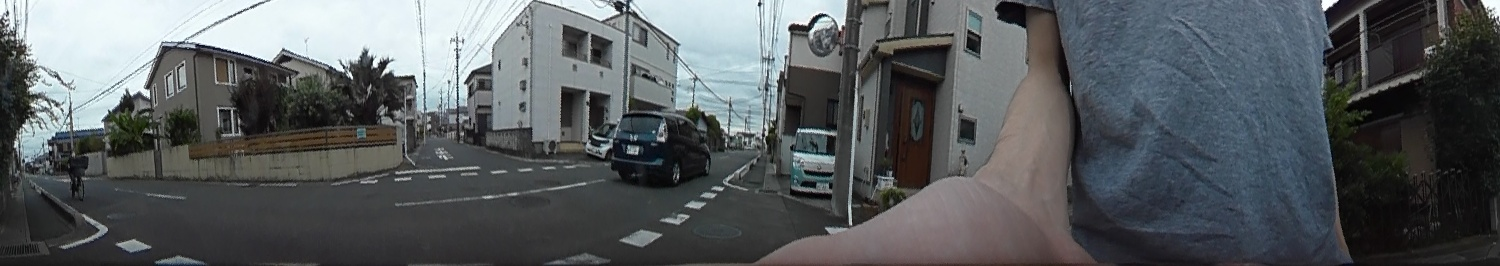difficult_person: (66, 146, 85, 193)
